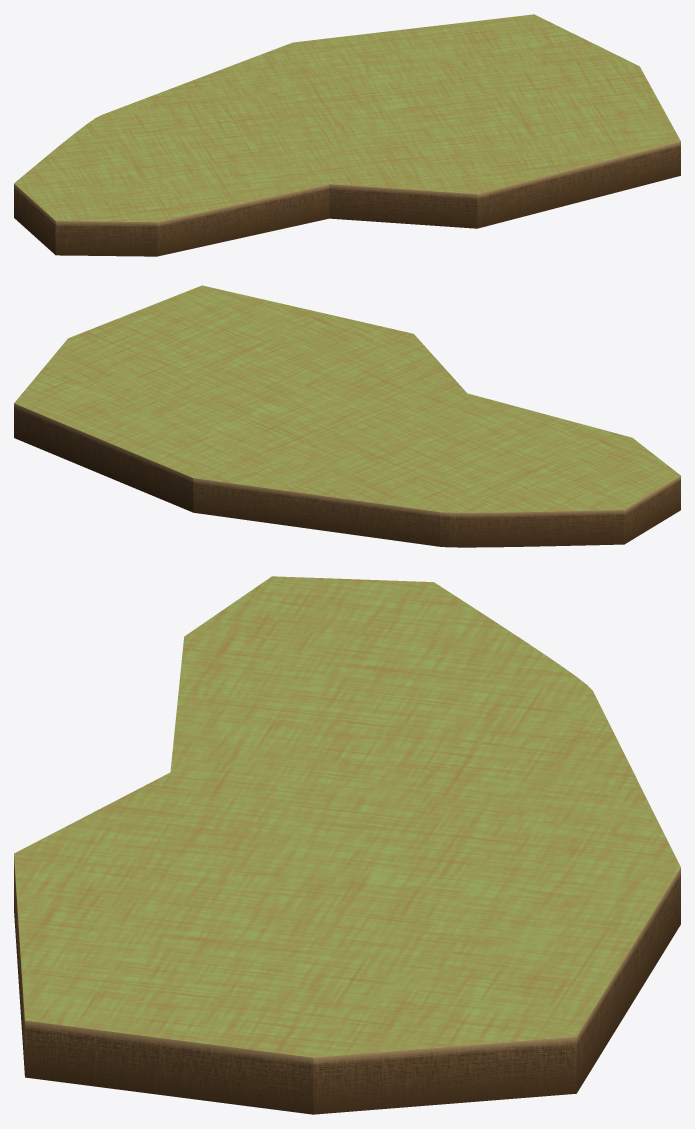
Rendered from Terrain02_D.FBX.
3 views of the same model, one above another, from view 1: azimuth 30°, elevation 25°; view 2: azimuth 150°, elevation 25°; view 3: azimuth 270°, elevation 25° (orthographic). The views are drawn at different scales.
Parts seen in each view (by area): view 1: Terrain02_D; view 2: Terrain02_D; view 3: Terrain02_D.
Boxes of the visible parts, x1=… form: Terrain02_D: x1=14, y1=14, x2=680, y2=256; Terrain02_D: x1=14, y1=285, x2=680, y2=547; Terrain02_D: x1=14, y1=576, x2=680, y2=1114.
Bounding box in the file's own units: 917 × 50.55 × 537.
1 material, 1 textured.
